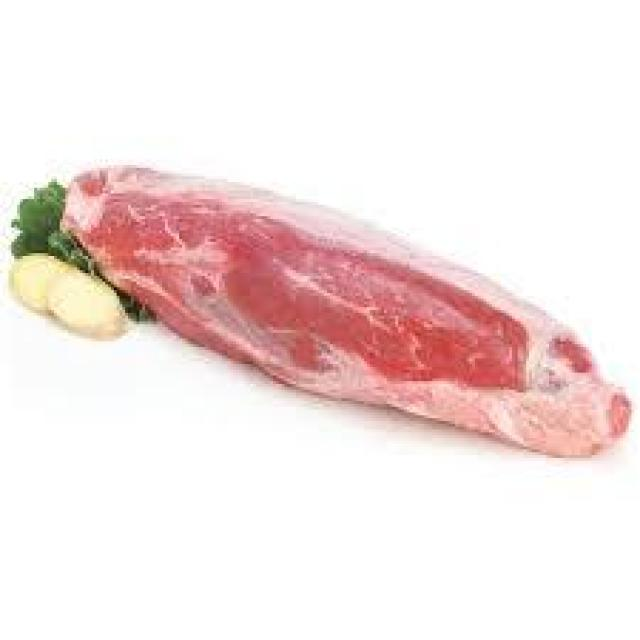Wet Waste: (171, 158, 640, 492)
